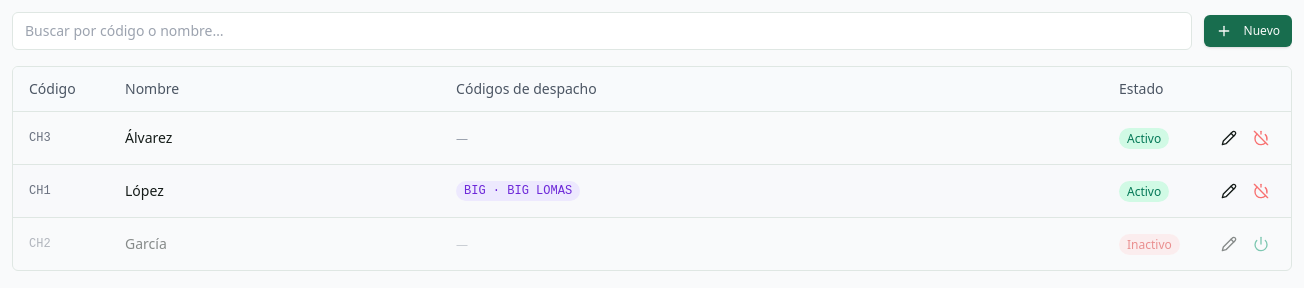
Test: ChoferesTab › muestra "Sin resultados" si el filtro no matchea
Type "zzz" into the field with placeholder "Buscar por código o nombre…" at [602, 31], box [12, 12, 1192, 50]
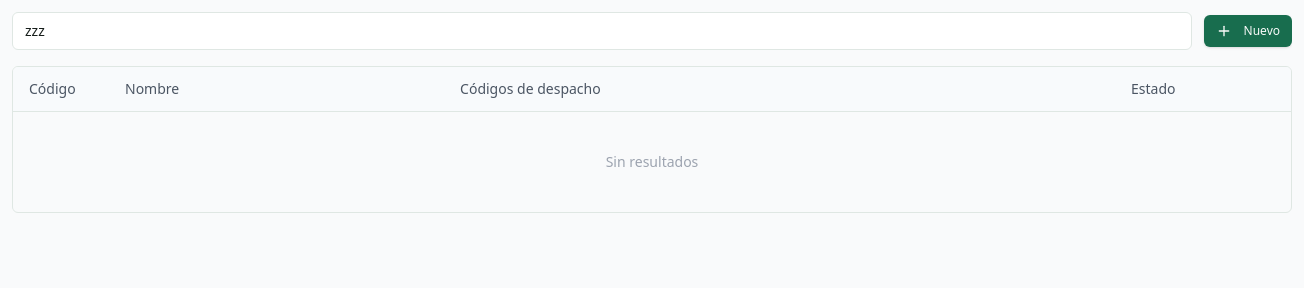
Expected: the text "Sin resultados" is shown, [13, 112, 1291, 212]
